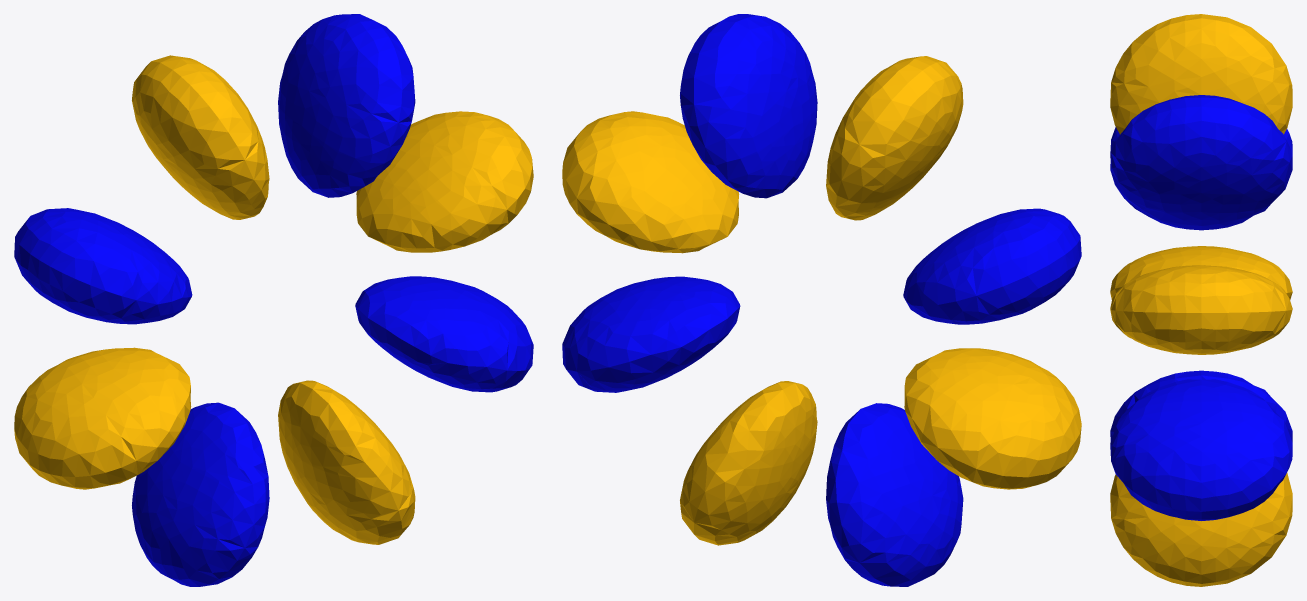
The picture shows the model from 3 angles, left to right: view 1: azimuth 30°, elevation 25°; view 2: azimuth 150°, elevation 25°; view 3: azimuth 270°, elevation 25°; orthographic projection. The views are drawn at different scales.
Size of the model in its own units: 30.61 by 30.61 by 10.45.
